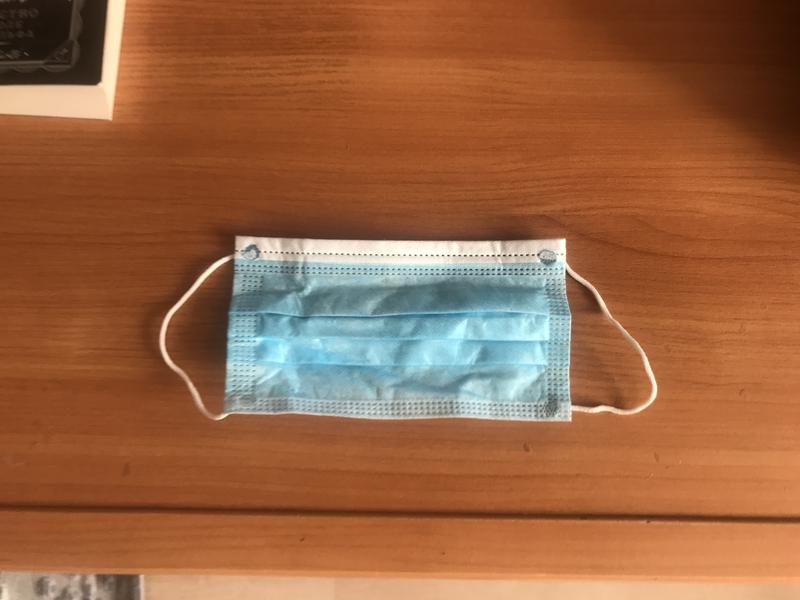medical_mask: (165, 231, 659, 422)
